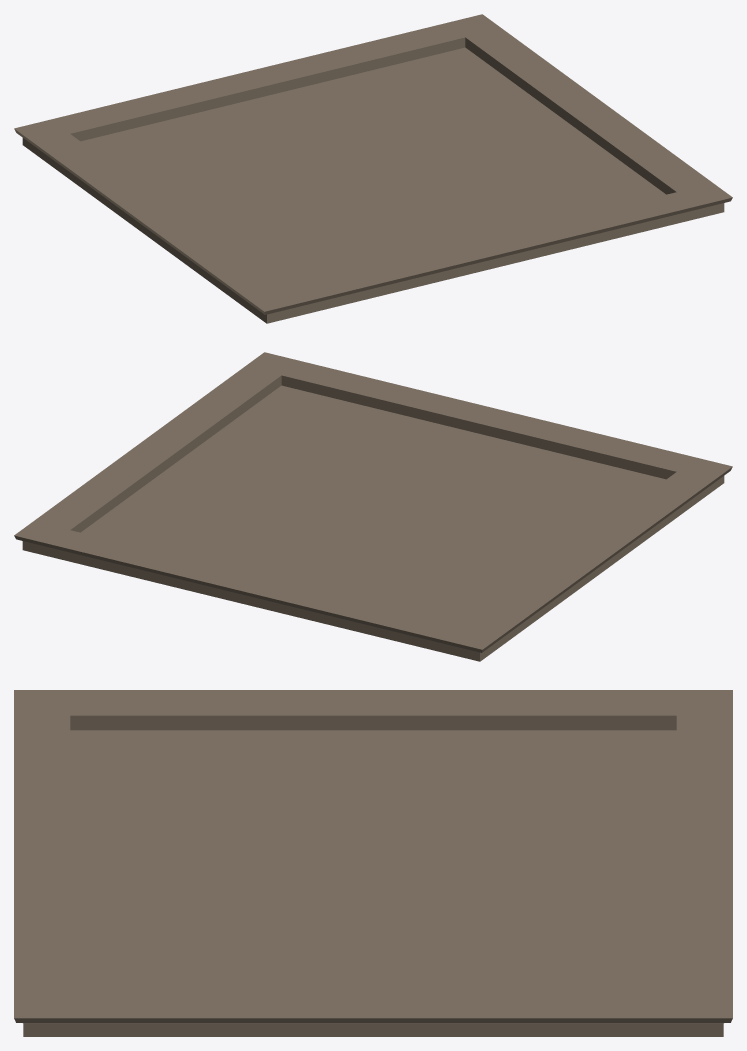
The model's file is Apt5_Roof.fbx.
3 renders of one model, top to bottom at view 1: azimuth 30°, elevation 25°; view 2: azimuth 150°, elevation 25°; view 3: azimuth 270°, elevation 25°, orthographic. The views are drawn at different scales.
Parts seen in each view (by area): view 1: Apt5_Roof; view 2: Apt5_Roof; view 3: Apt5_Roof.
Part boxes in pixels (<box>): Apt5_Roof: <box>14,14,732,323</box>; Apt5_Roof: <box>14,352,732,661</box>; Apt5_Roof: <box>14,690,732,1036</box>.
Bounding box in the file's own units: 1611 × 53.22 × 1492.
